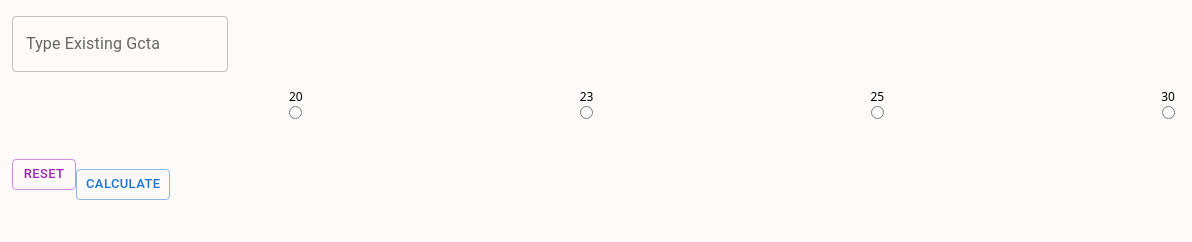
HiddenComponent › shows error when Calculate is clicked without input
Click the button "Calculate". click: [123, 184]
box: [76,169,170,200]
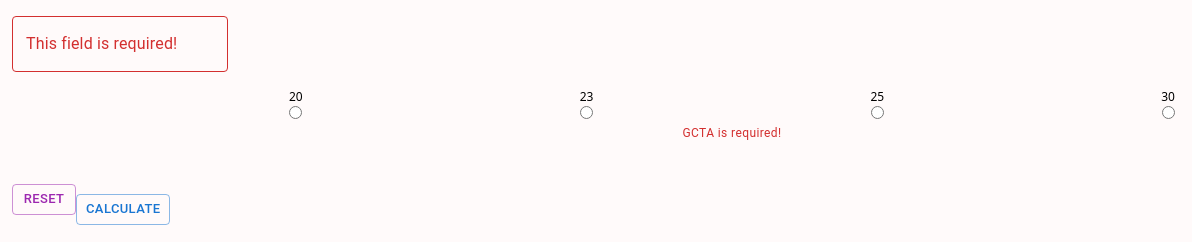
Result: the text "GCTA is required!" is shown at [682,126,782,140]
